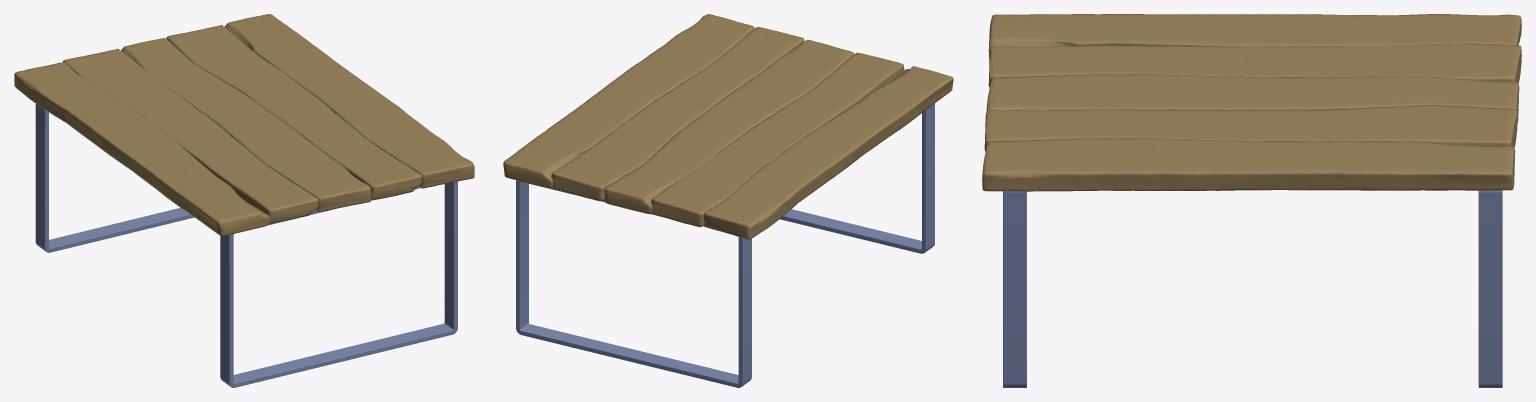
The model's file is table.fbx.
The picture shows the model from 3 angles, left to right: view 1: azimuth 30°, elevation 25°; view 2: azimuth 150°, elevation 25°; view 3: azimuth 270°, elevation 25°; orthographic projection. The views are drawn at different scales.
Visible parts, largest first — view 1: Sweep_6; view 2: Sweep_6; view 3: Sweep_6.
Part boxes in pixels (x1,y1,x2,y2): Sweep_6: (14, 14, 474, 387); Sweep_6: (503, 14, 953, 387); Sweep_6: (982, 14, 1521, 387).
Size of the model in its own units: 11918 by 7786 by 16982.
